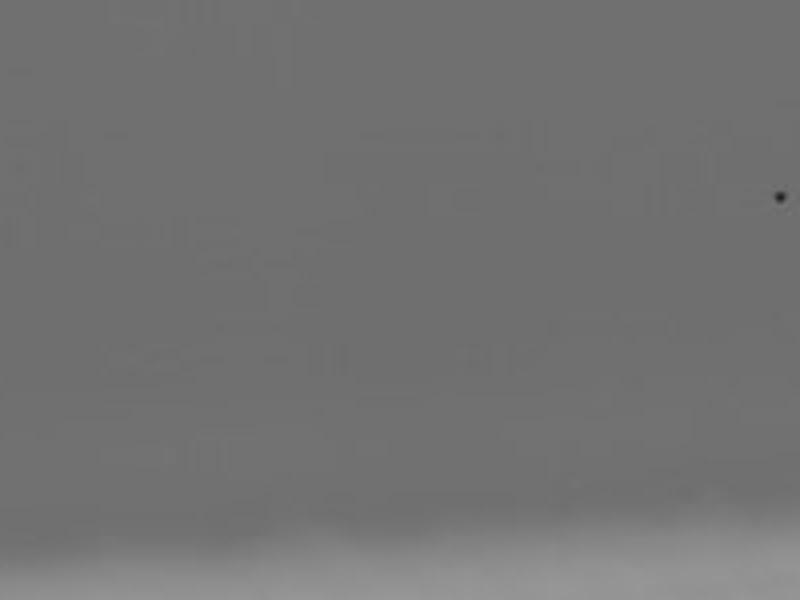defect: (771, 188, 789, 205)
